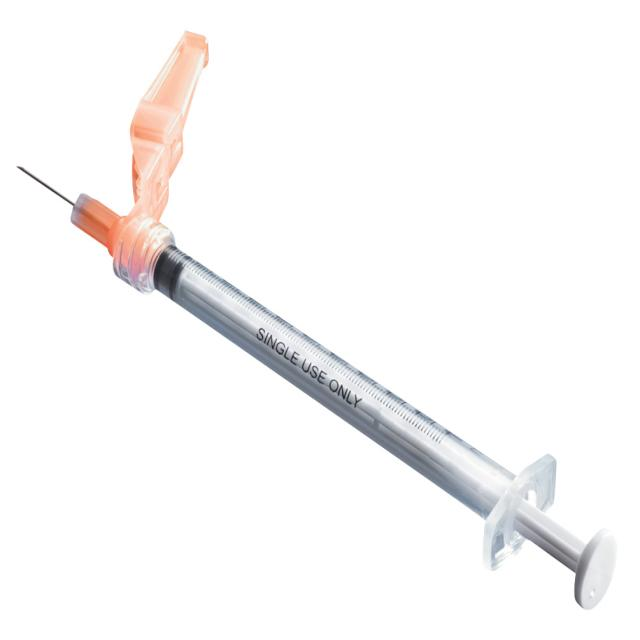syringe: (15, 28, 617, 611)
